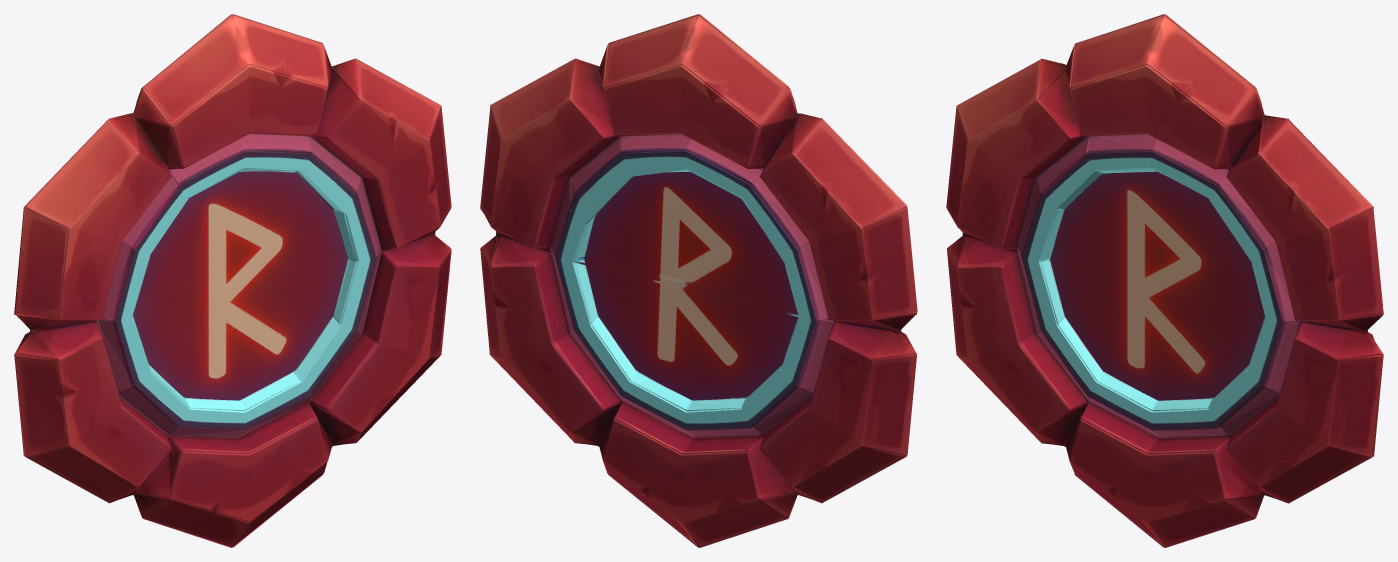
File: Meshy_AI_hexagonal_circular_de_0703115136_texture.glb
The picture shows the model from 3 angles, left to right: view 1: azimuth 30°, elevation 25°; view 2: azimuth 150°, elevation 25°; view 3: azimuth 330°, elevation 25°; orthographic projection.
Bounding box in the file's own units: 1.63 × 1.91 × 0.2309.
1 material, 1 textured.
